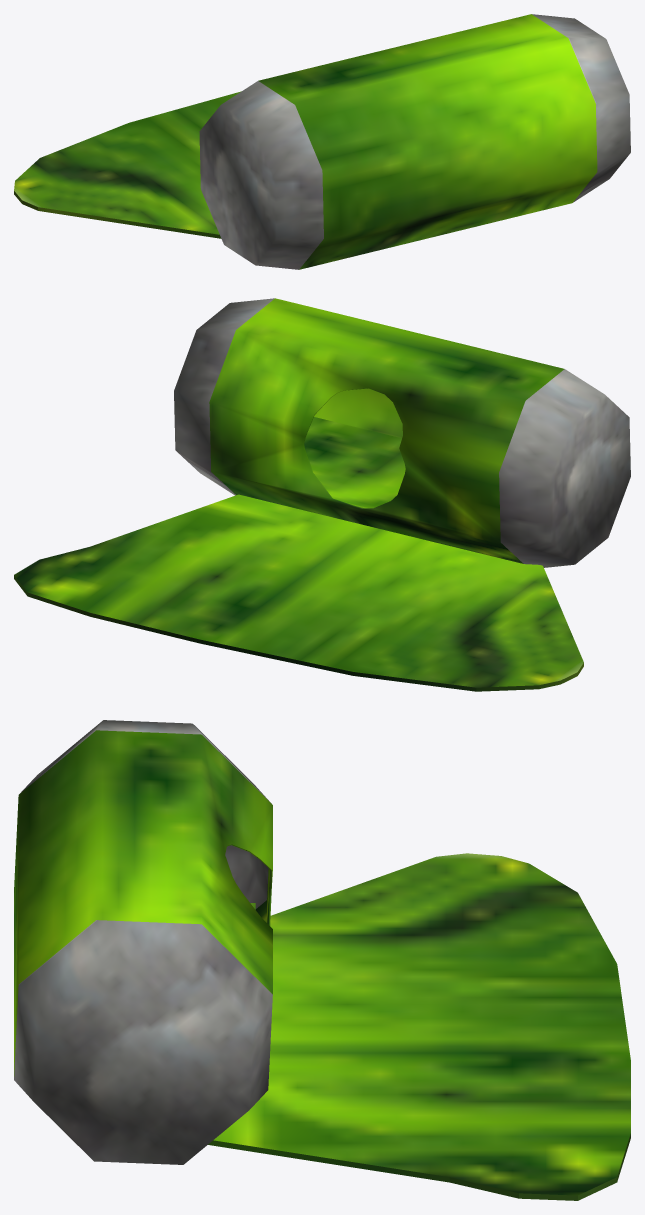
The model's file is BrokenPipe.fbx.
3 views of the same model, one above another, from view 1: azimuth 30°, elevation 25°; view 2: azimuth 150°, elevation 25°; view 3: azimuth 270°, elevation 25° (orthographic). The views are drawn at different scales.
Visible parts, largest first — view 1: BrokenPipe; view 2: BrokenPipe; view 3: BrokenPipe.
Part boxes in pixels (x1,y1,x2,y2): BrokenPipe: (14, 14, 630, 269); BrokenPipe: (14, 298, 630, 691); BrokenPipe: (14, 720, 630, 1200).
Bounding box in the file's own units: 2.15 × 0.6862 × 1.64.
Materials: 1 (1 with a texture image).
